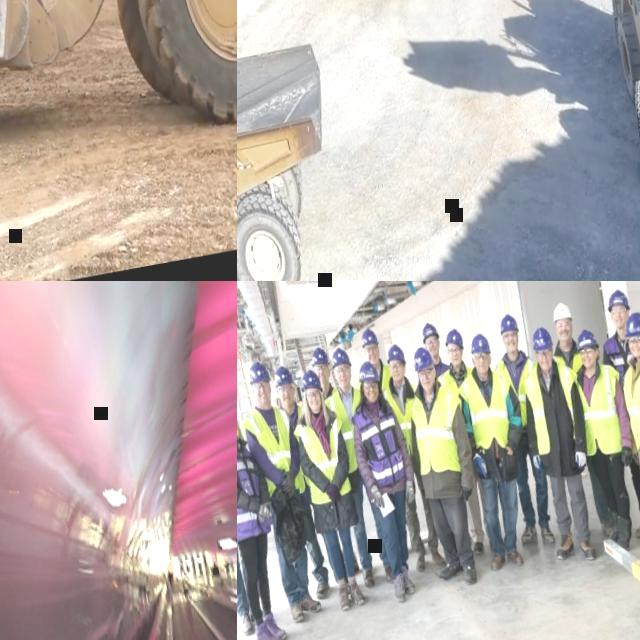helmet: (296, 364, 328, 418), (530, 325, 555, 352), (412, 344, 436, 372), (247, 358, 272, 384), (356, 358, 381, 384), (299, 366, 324, 391), (575, 328, 601, 352), (605, 288, 630, 312), (384, 342, 408, 367), (273, 363, 298, 387), (550, 300, 574, 324), (468, 332, 492, 356), (329, 345, 352, 369), (622, 309, 640, 338), (498, 311, 520, 334), (359, 325, 380, 348), (444, 326, 464, 350), (420, 320, 440, 344), (310, 346, 330, 366)
machinery: (0, 0, 237, 181), (237, 6, 373, 281)
no_mask: (420, 375, 438, 391), (474, 361, 494, 375), (255, 391, 273, 406), (537, 357, 555, 371), (556, 328, 574, 341), (612, 314, 628, 328), (366, 351, 382, 365), (337, 376, 353, 390), (505, 338, 520, 352), (391, 367, 405, 382), (364, 389, 379, 403), (309, 399, 323, 413), (281, 394, 295, 408), (450, 353, 464, 366), (428, 344, 441, 358), (582, 357, 596, 368), (631, 344, 640, 357), (319, 374, 330, 384)
person: (393, 338, 494, 590), (237, 355, 330, 626), (448, 323, 548, 572), (341, 353, 436, 603), (284, 362, 374, 614), (518, 320, 610, 566), (482, 308, 568, 548), (270, 360, 352, 600), (316, 343, 396, 588), (430, 323, 508, 554), (376, 339, 450, 572), (543, 299, 614, 539), (567, 323, 640, 552), (298, 343, 369, 577), (237, 385, 298, 640), (592, 284, 640, 538), (237, 351, 277, 639), (610, 308, 640, 580), (348, 323, 397, 400), (420, 318, 452, 380)
vest: (238, 399, 306, 501), (291, 405, 355, 505), (407, 380, 473, 473), (349, 396, 409, 491), (574, 361, 634, 456), (458, 368, 520, 452), (324, 383, 374, 475), (494, 352, 546, 429), (382, 380, 432, 457), (237, 434, 271, 544), (277, 396, 318, 487), (619, 351, 640, 456), (237, 395, 253, 503), (354, 364, 396, 404), (604, 334, 639, 382), (436, 364, 474, 396), (322, 384, 342, 412), (562, 352, 583, 372), (434, 362, 452, 378)
